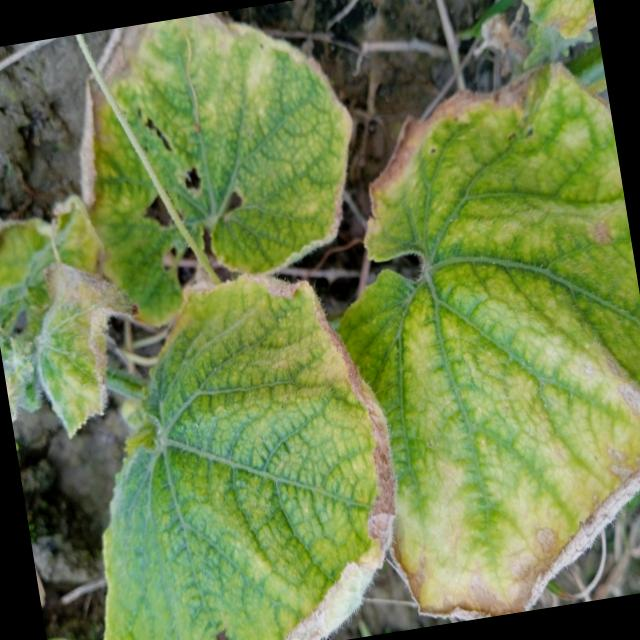cucumber_gummy: (302, 34, 640, 633), (40, 233, 419, 640), (34, 0, 390, 346), (4, 228, 165, 458)
